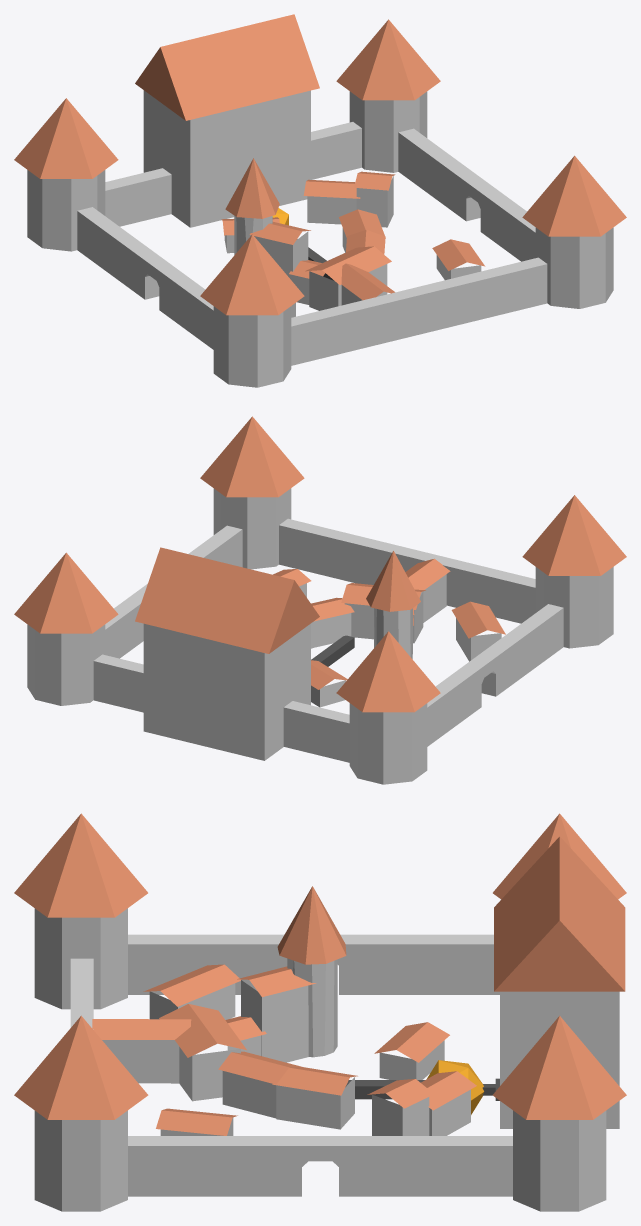
The model's file is castle-prod.glb.
3 views of the same model, one above another, from view 1: azimuth 30°, elevation 25°; view 2: azimuth 150°, elevation 25°; view 3: azimuth 270°, elevation 25° (orthographic). The views are drawn at different scales.
Parts seen in each view (by area): view 1: castle; view 2: castle, scepter; view 3: castle, scepter.
Boxes of the visible parts, x1,y1,x2,y2 form: castle: [14, 14, 626, 387]; castle: [14, 416, 626, 784]; scepter: [311, 635, 354, 666]; castle: [14, 813, 626, 1211]; scepter: [345, 1060, 499, 1114].
Size of the model in its own units: 0.9949 by 0.4399 by 1.03.
